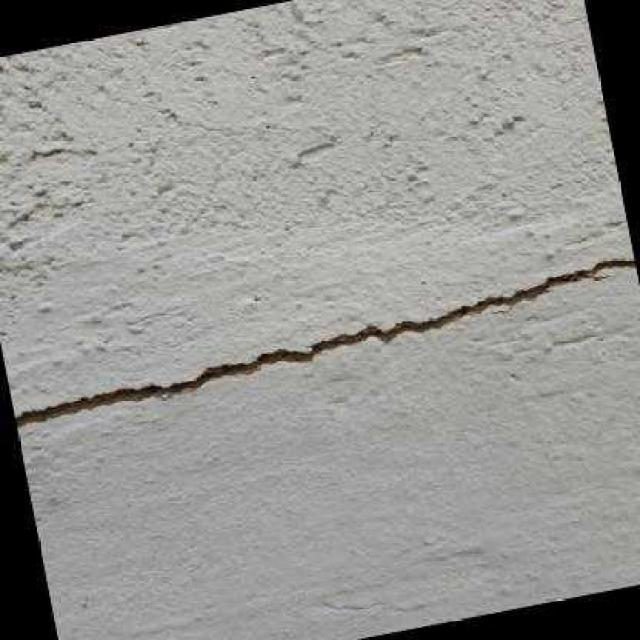D00: (13, 257, 636, 427)
